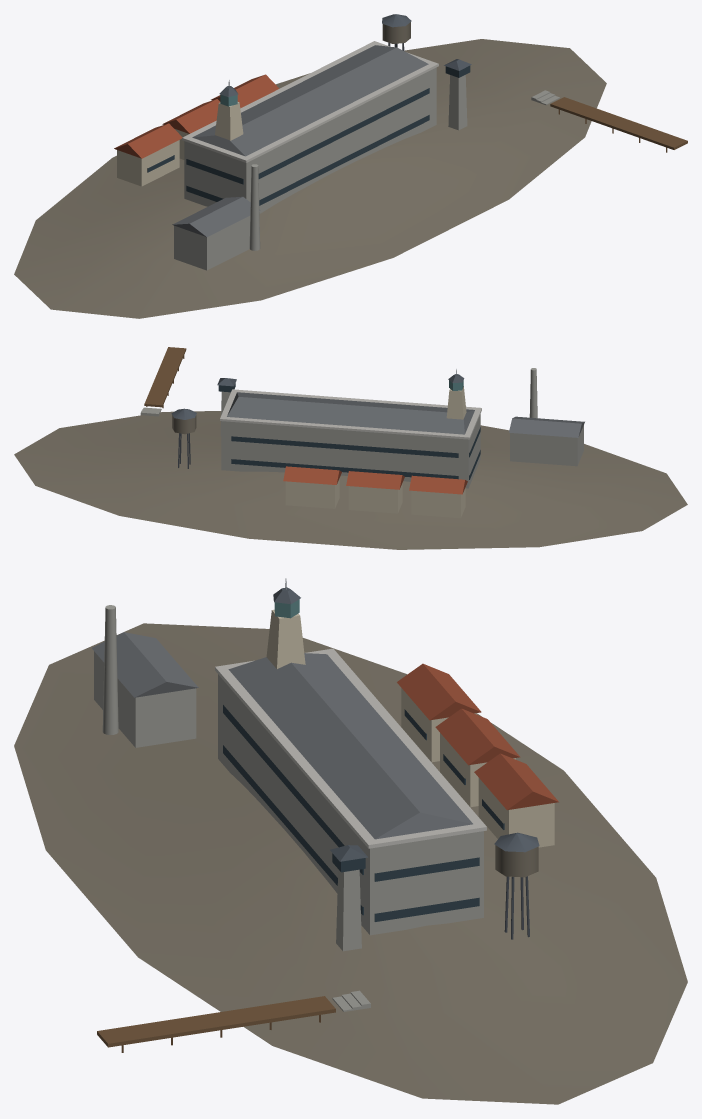
File: mobile.glb
3 renders of one model, top to bottom at view 1: azimuth 30°, elevation 25°; view 2: azimuth 150°, elevation 25°; view 3: azimuth 270°, elevation 25°, orthographic. The views are drawn at different scales.
Visible parts, largest first — view 1: lm.alcatraz; view 2: lm.alcatraz; view 3: lm.alcatraz.
Boxes of the visible parts, x1,y1,x2,y2 form: lm.alcatraz: (14, 14, 687, 318); lm.alcatraz: (14, 347, 687, 549); lm.alcatraz: (14, 578, 687, 1104).
Size of the model in its own units: 282 by 57.4 by 167.
